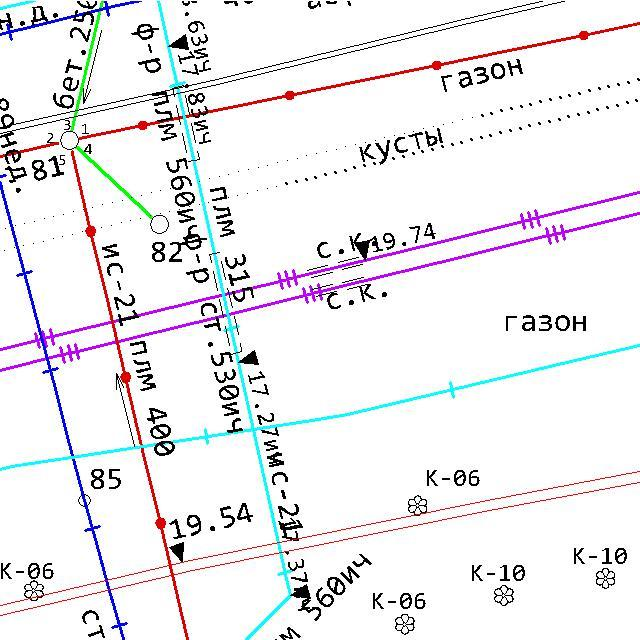bushes: (492, 584, 516, 608), (22, 580, 46, 603), (393, 612, 416, 636), (594, 566, 617, 590), (406, 494, 429, 516)
mark: (288, 582, 312, 601), (168, 540, 186, 565), (237, 348, 260, 367), (166, 33, 190, 51), (354, 240, 371, 262)
well: (57, 128, 82, 153), (148, 212, 172, 237), (76, 492, 93, 509)
